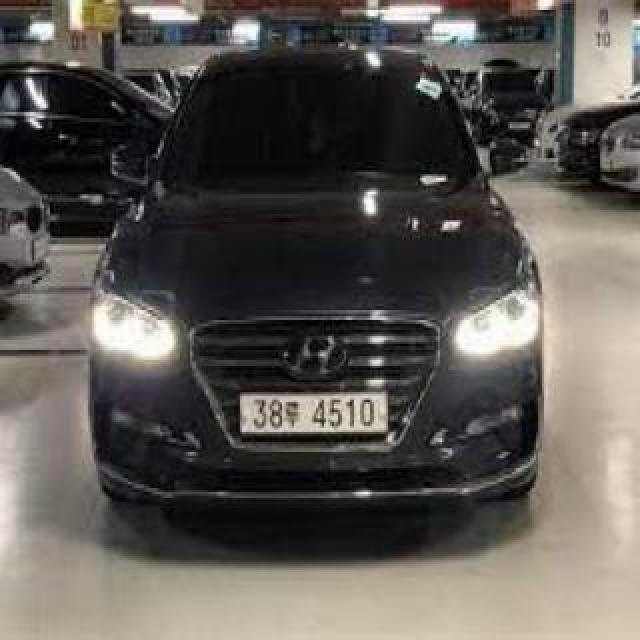car: (84, 38, 556, 539)
illegal_plate: (238, 388, 389, 446)
